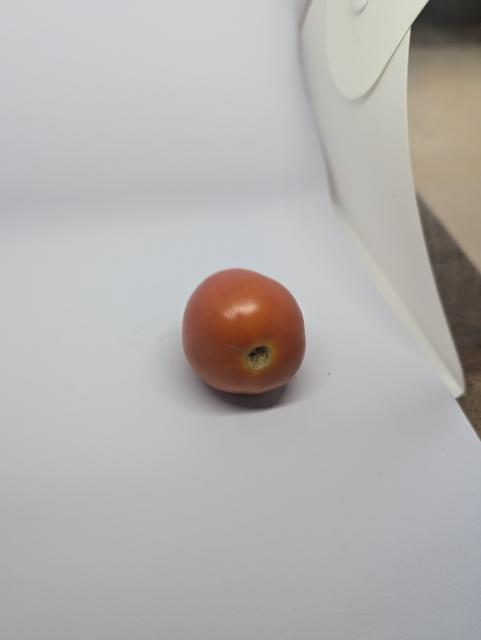red: (172, 260, 327, 409)
